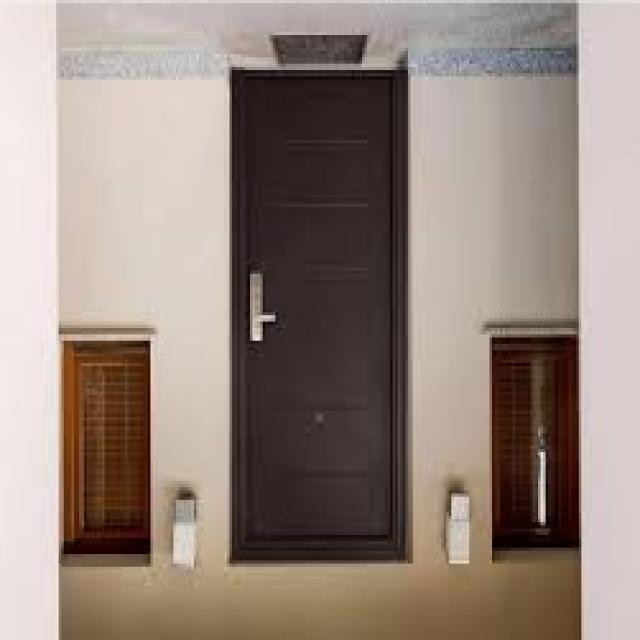door: (229, 69, 408, 565)
